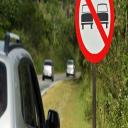NoUltrapassar: (74, 0, 116, 67)
